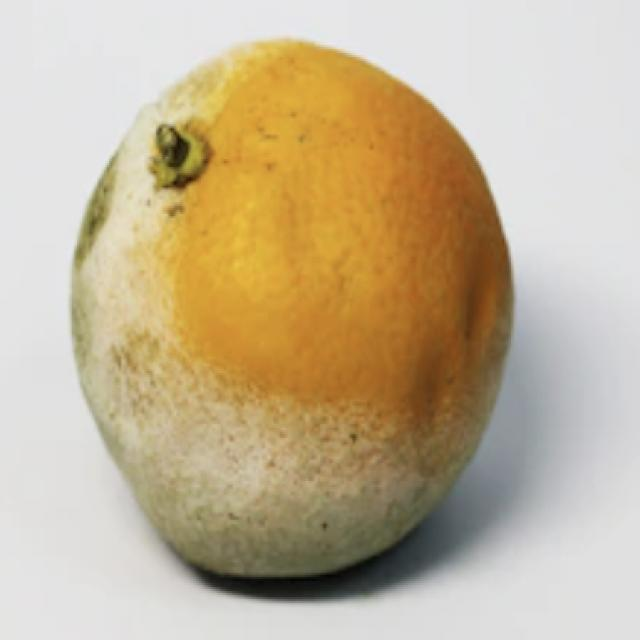rotten-orange: (66, 40, 515, 588)
